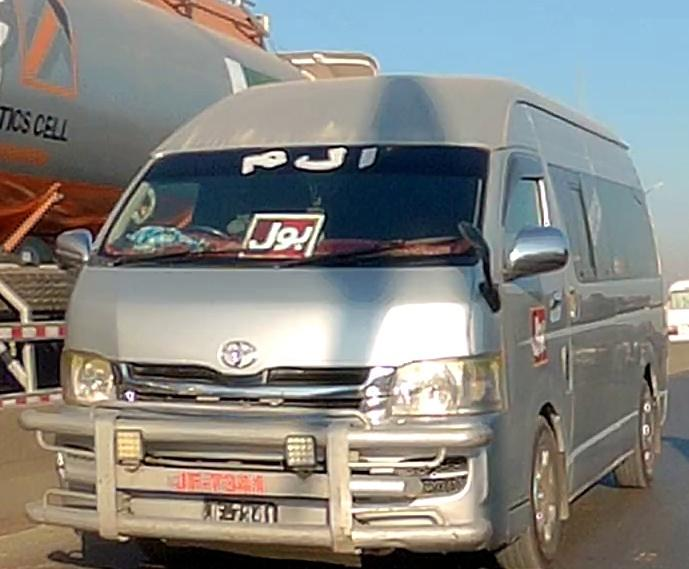car: (63, 91, 668, 556)
truck: (2, 0, 373, 392)
